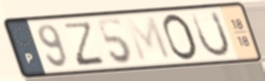5: (94, 15, 136, 67)
9: (36, 22, 70, 69)
M: (123, 14, 175, 64)
O: (161, 12, 200, 62)
U: (189, 9, 232, 60)
Z: (63, 20, 107, 68)
